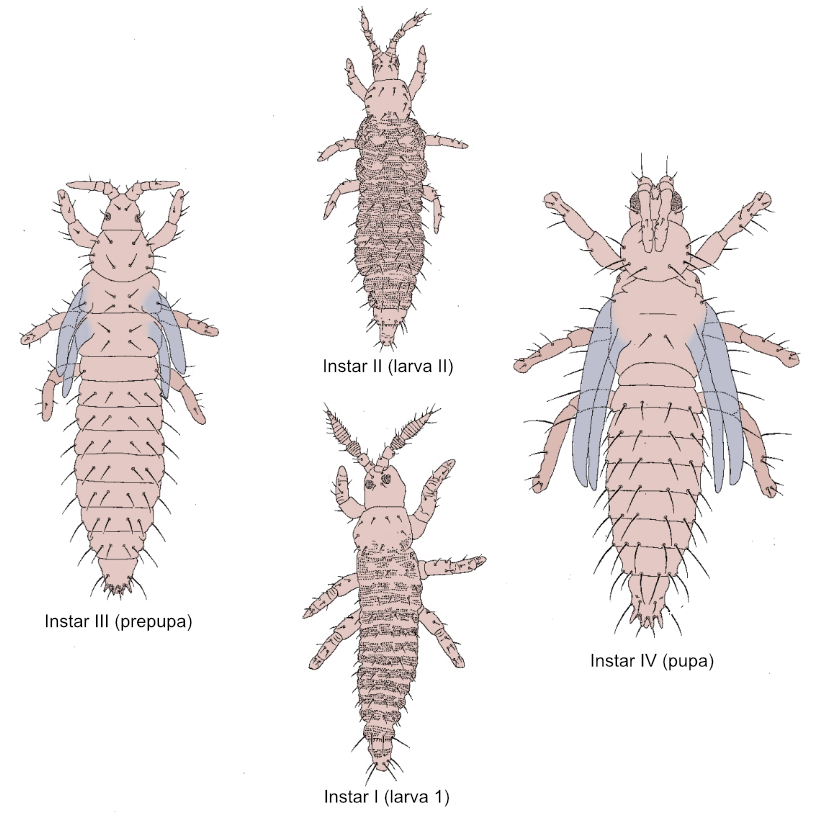Thripidae: (510, 154, 801, 633), (23, 175, 219, 600), (300, 406, 489, 782), (320, 4, 467, 350)
